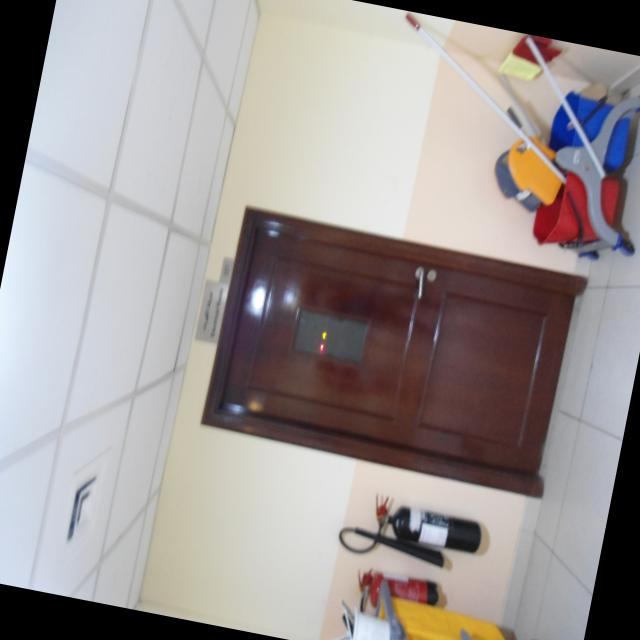cleaningCart: (364, 10, 640, 272), (325, 585, 585, 640)
door: (198, 197, 599, 493)
fireExt: (328, 488, 494, 579), (351, 564, 442, 620)
sign: (194, 278, 228, 342), (218, 254, 234, 282)
